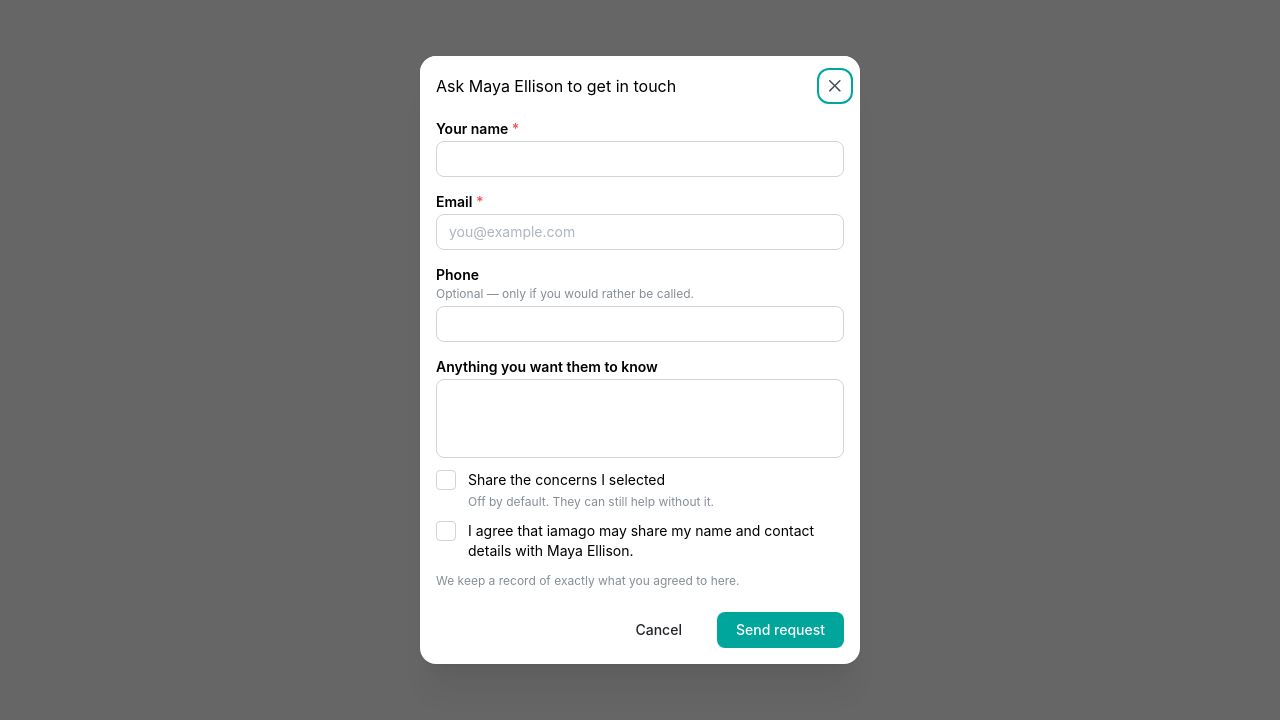
Test: <ContactRequestModal /> › confirms once sent
This screenshot has width=1280, height=720.
Type "Ada Lovelace" into the field labelled "Your name *" at (640, 159), box [436,141,844,177]
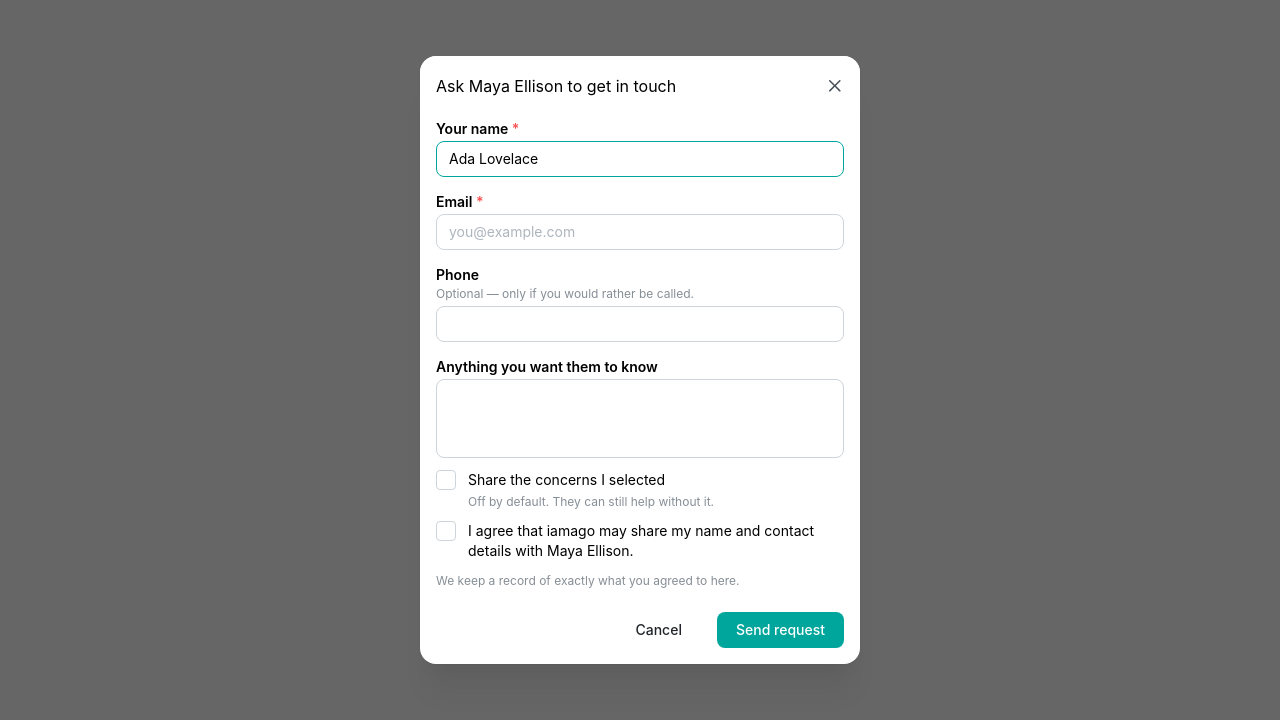
Type "ada@example.com" into the field labelled "Email *" at (640, 232), box [436,214,844,250]
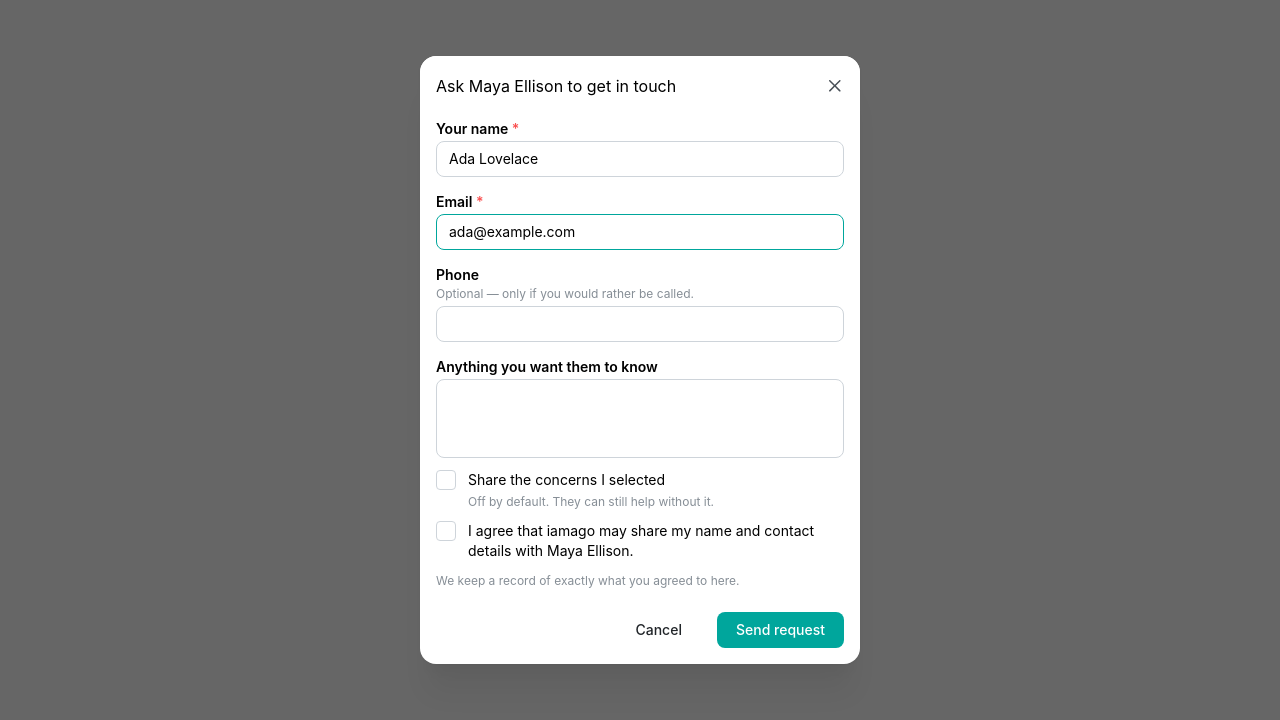
Click the checkbox labelled "I agree that iamago may share" at (446, 531), box [436,521,456,541]
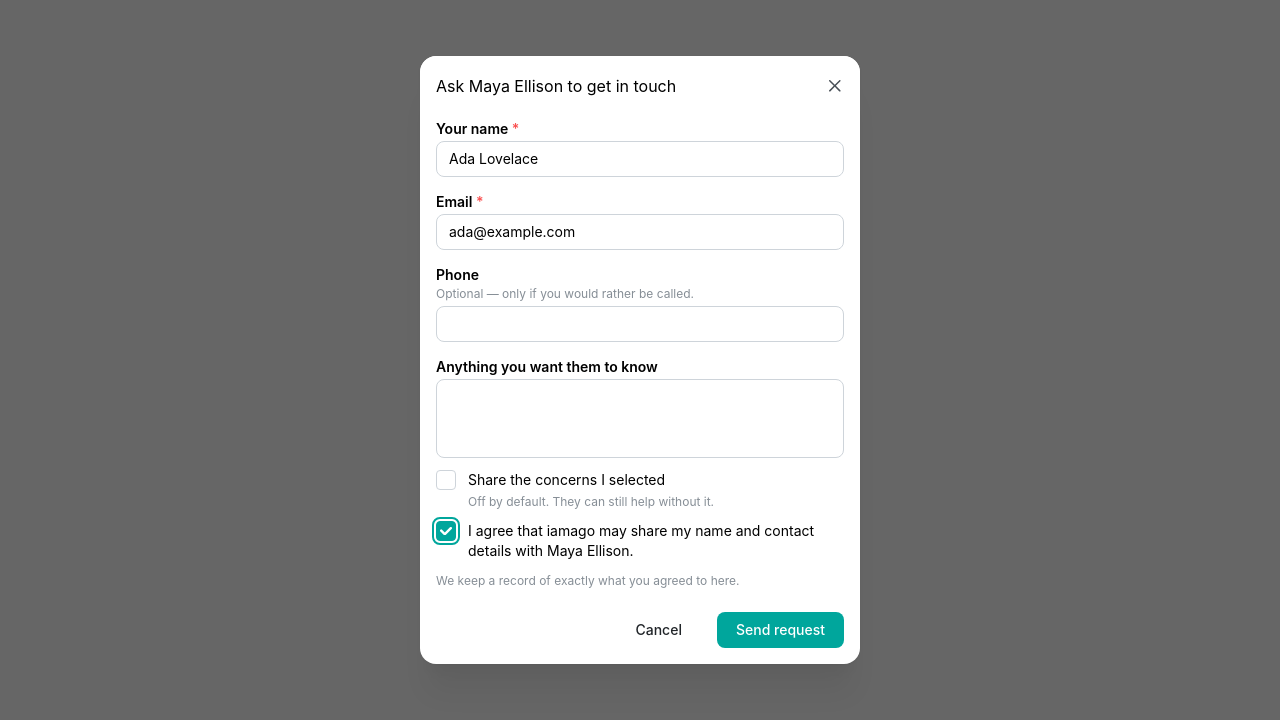
Click the button "Send request" at (780, 630), box [717,612,844,648]
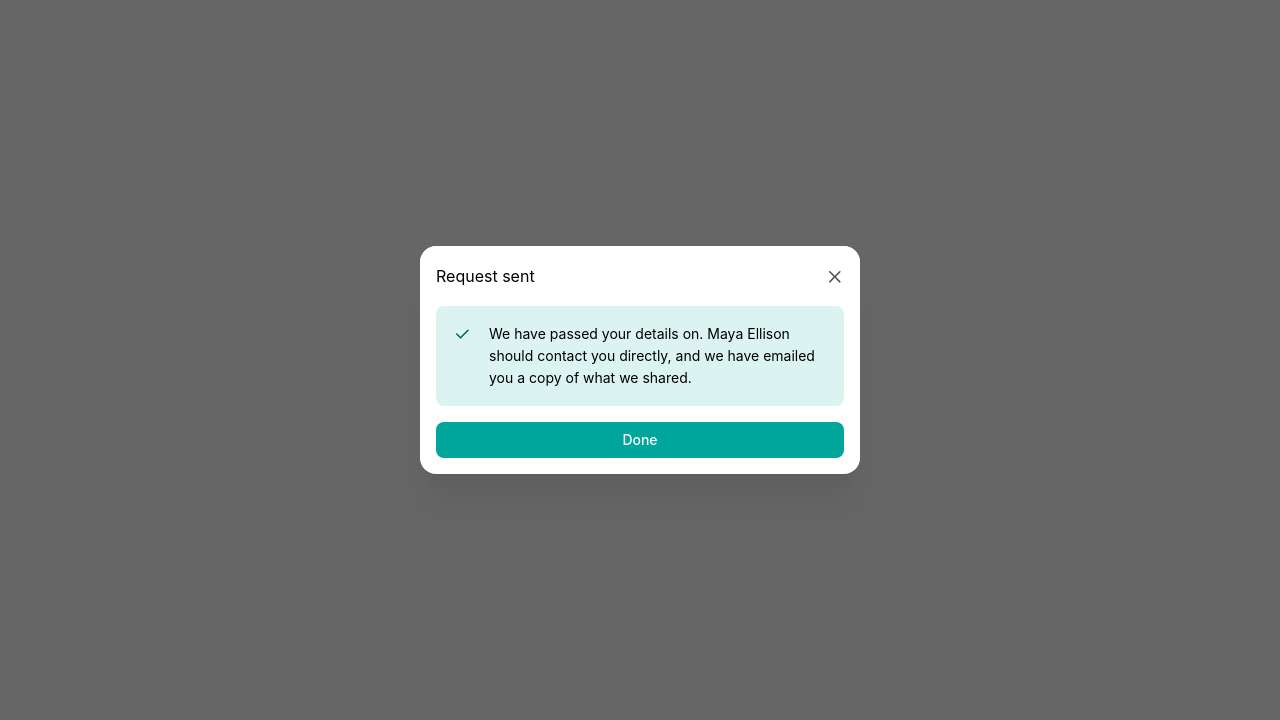
Expected: the text "We have passed your details on" is shown, [489,326,707,342]
